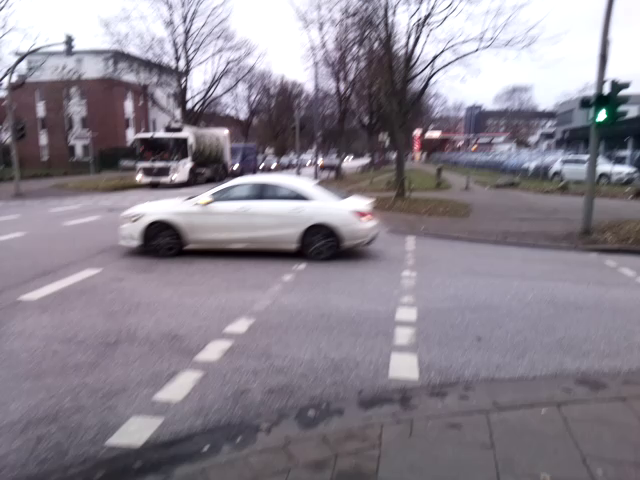car: (107, 172, 382, 258)
